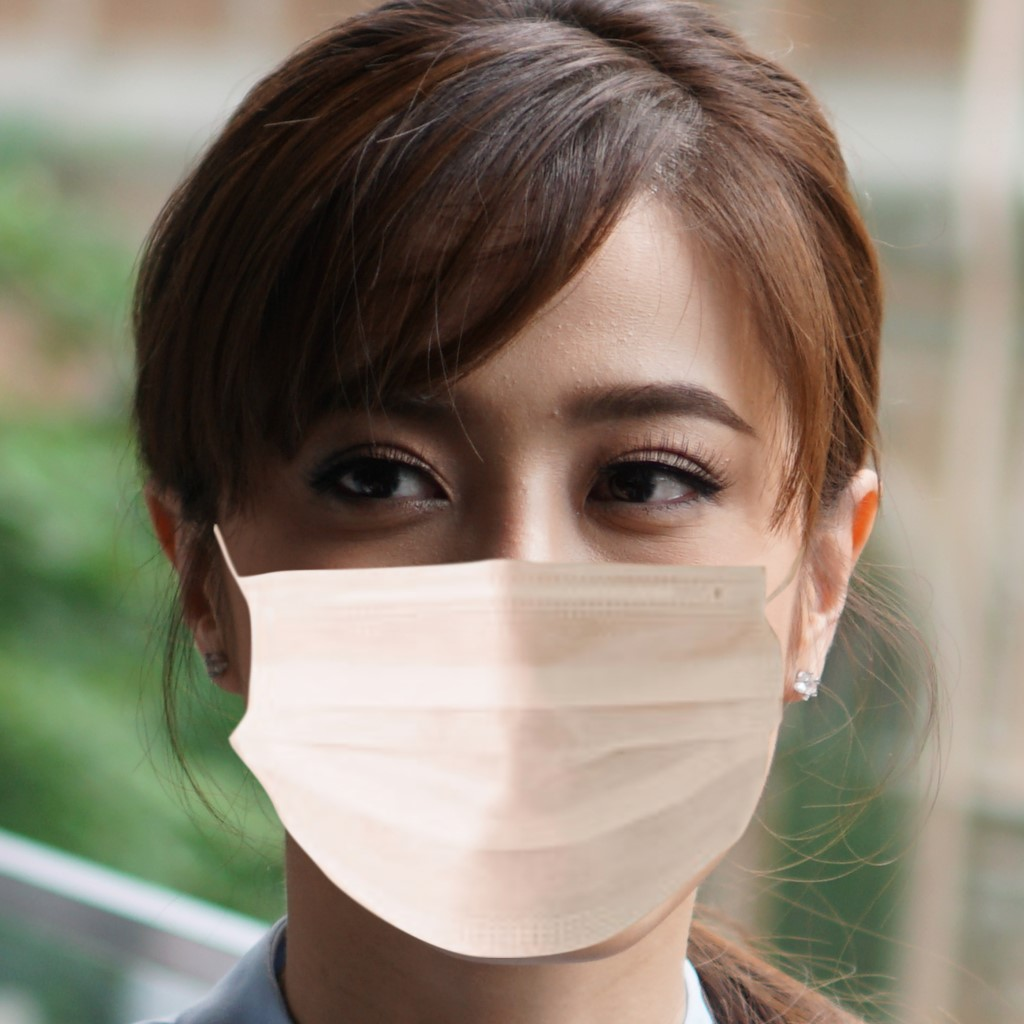con_mascara: (215, 180, 798, 949)
